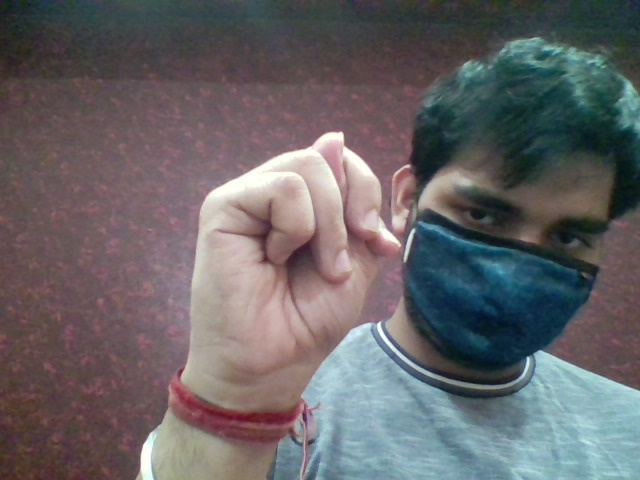n: (176, 122, 403, 371)
